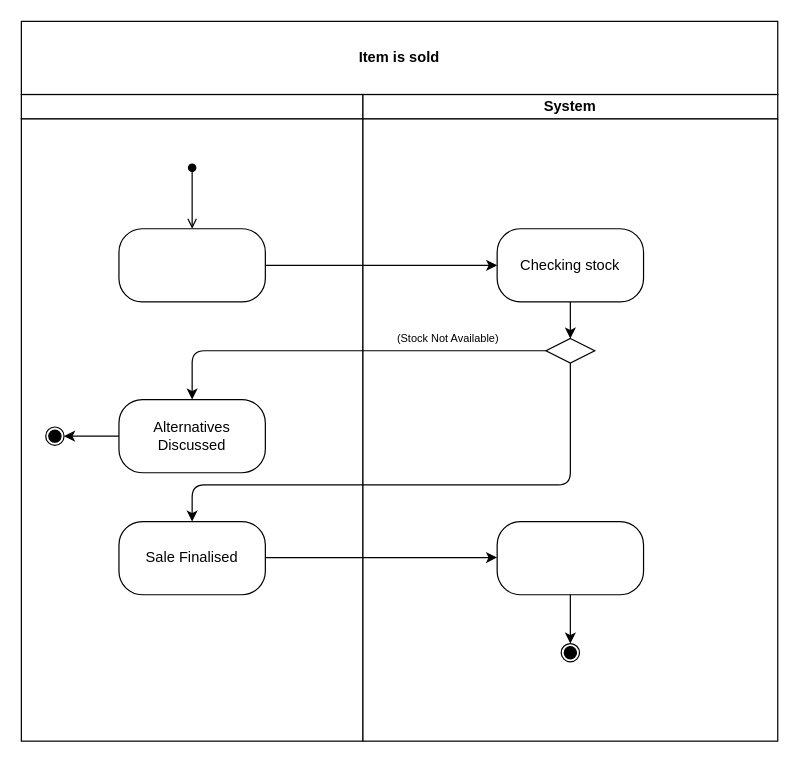
This 799x763 diagram has some shape labels left out. The centre of each missing label's shape, as x and y in pixels:
"Sale is agreed" belongs at (191,265).
"Stock is reduced" belongs at (570,557).
"User" belongs at (191,106).
